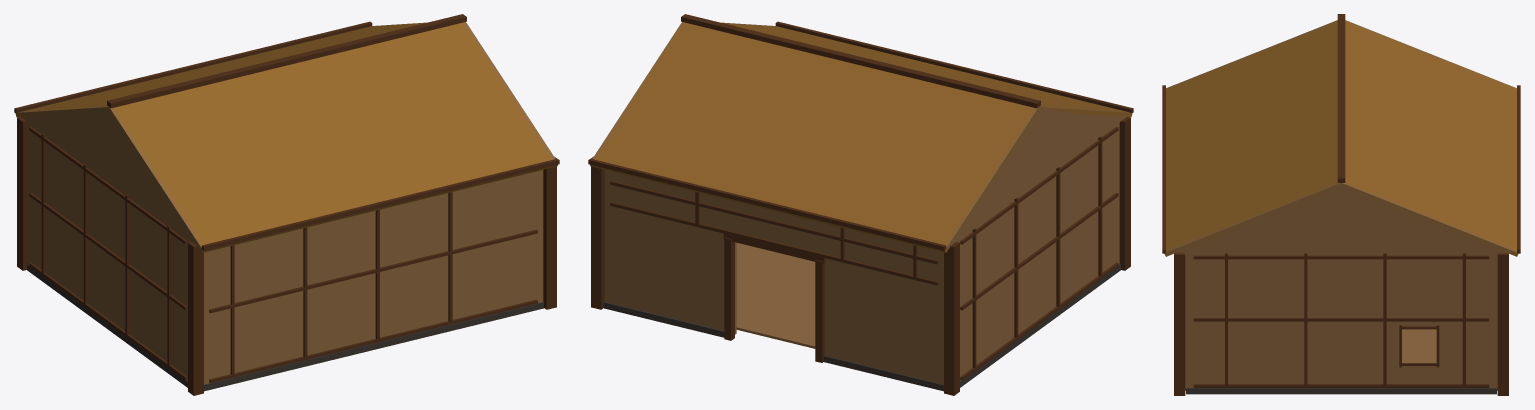
Rendered from miller_barn.glb.
The picture shows the model from 3 angles, left to right: view 1: azimuth 30°, elevation 25°; view 2: azimuth 150°, elevation 25°; view 3: azimuth 270°, elevation 25°; orthographic projection. The views are drawn at different scales.
Parts seen in each view (by area): view 1: miller_barn_plank, miller_barn_roof_straw, miller_barn_timber, miller_barn_plinth; view 2: miller_barn_plank, miller_barn_roof_straw, miller_barn_timber, miller_barn_plinth; view 3: miller_barn_roof_straw, miller_barn_plank, miller_barn_timber, miller_barn_plinth.
Boxes of the visible parts, box(x1,y1,x2,y2) form: miller_barn_plank: box(16, 22, 555, 384); miller_barn_roof_straw: box(15, 22, 557, 252); miller_barn_timber: box(14, 14, 559, 395); miller_barn_plinth: box(27, 264, 543, 391); miller_barn_plank: box(592, 22, 1130, 384); miller_barn_roof_straw: box(590, 22, 1132, 252); miller_barn_timber: box(588, 14, 1133, 395); miller_barn_plinth: box(604, 264, 1120, 391); miller_barn_roof_straw: box(1164, 21, 1518, 256); miller_barn_plank: box(1166, 20, 1516, 390); miller_barn_timber: box(1162, 14, 1520, 395); miller_barn_plinth: box(1186, 388, 1496, 394).
Bounding box in the file's own units: 12.76 × 7.66 × 11.52.
